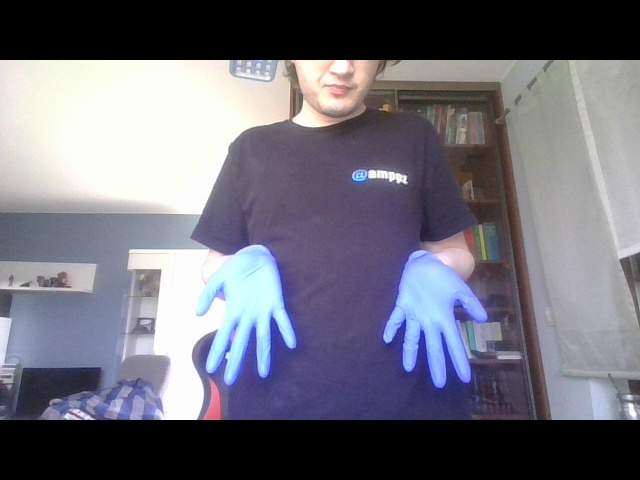glove: (191, 244, 306, 384), (380, 247, 489, 393)
